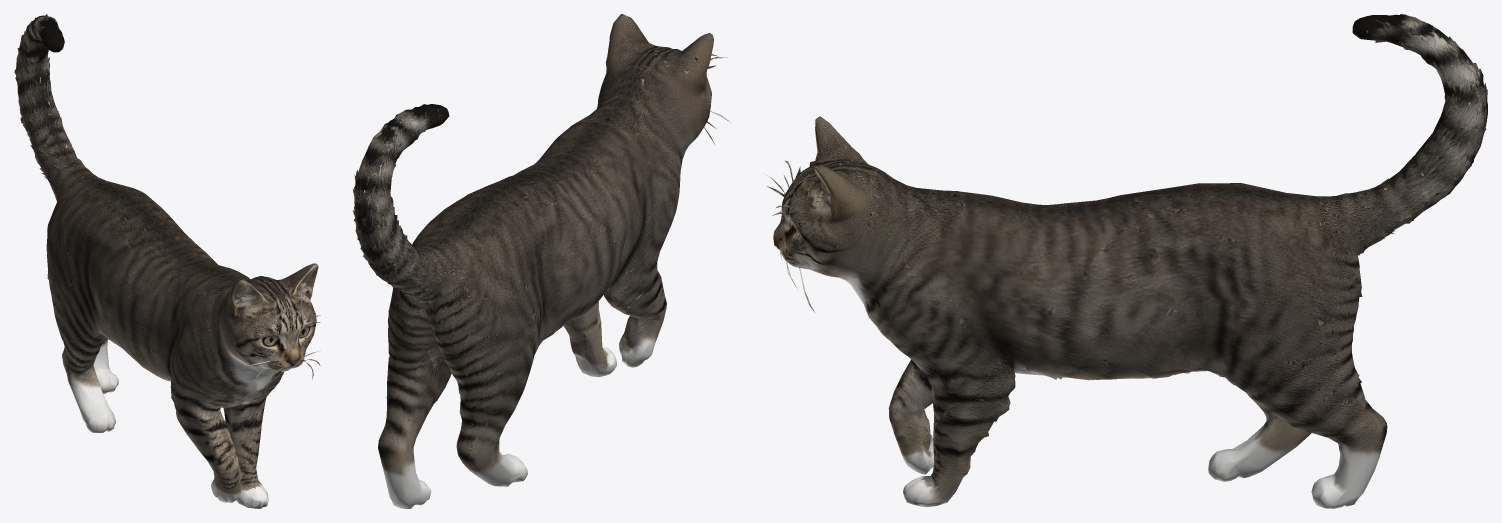
File: katze.glb
3 views of the same model, side by side, from view 1: azimuth 30°, elevation 25°; view 2: azimuth 150°, elevation 25°; view 3: azimuth 270°, elevation 25° (orthographic). The views are drawn at different scales.
Size of the model in its own units: 0.4147 by 1.37 by 1.92.
1 material, 1 textured.
